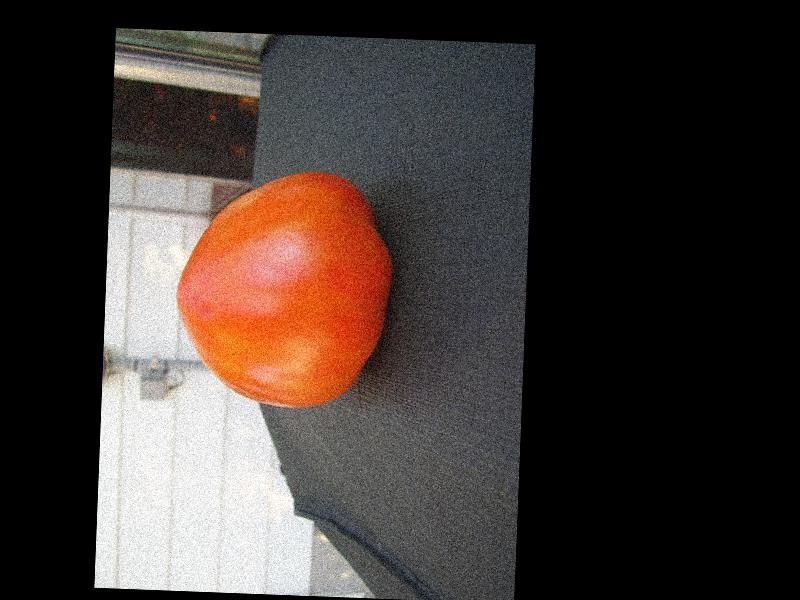Tomato: (171, 166, 394, 410)
